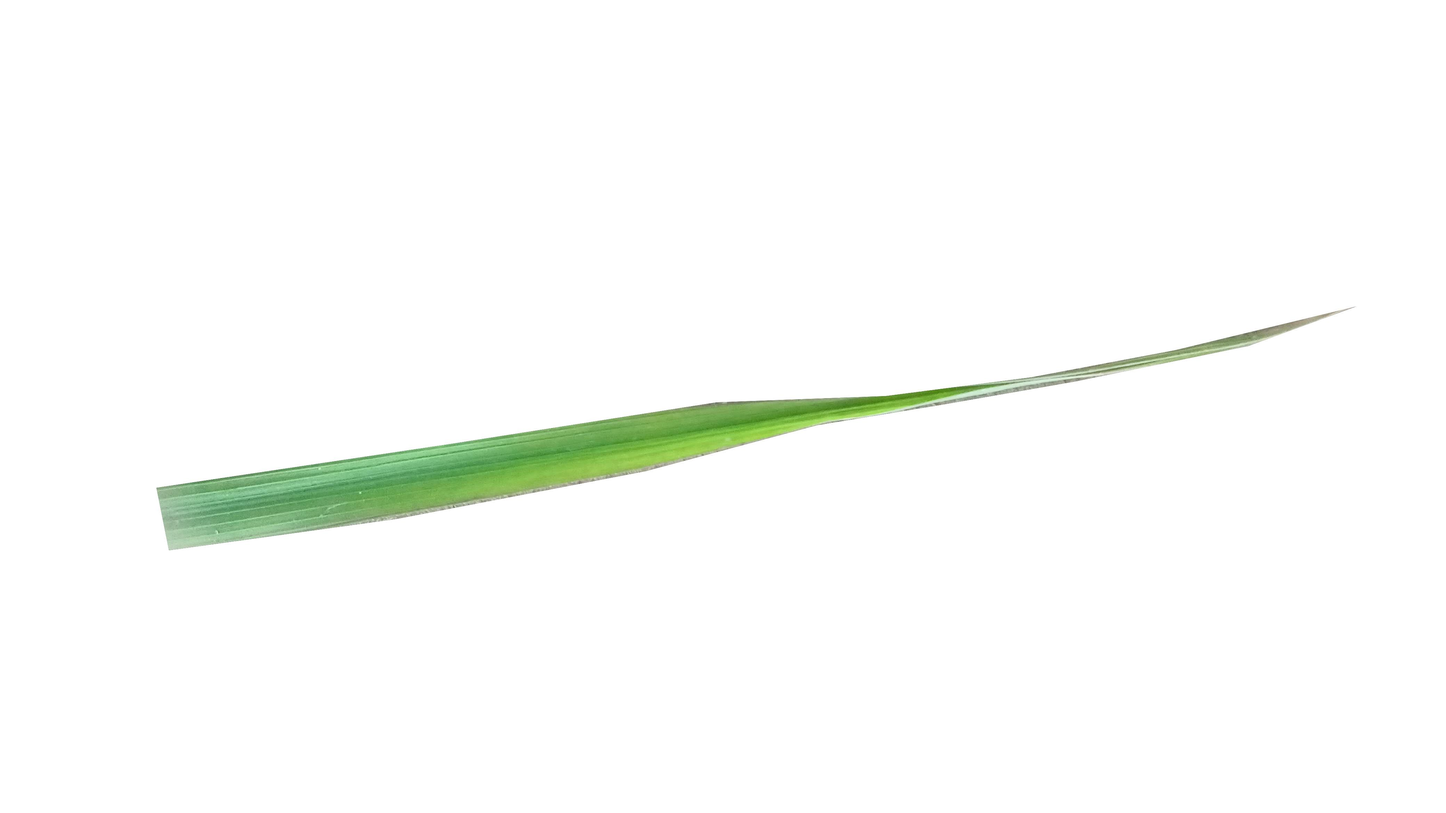Tungro: (362, 405, 860, 523)
